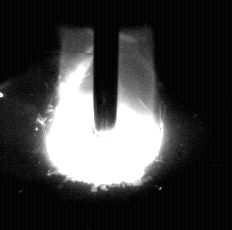arame: (95, 0, 119, 132)
poca: (44, 0, 165, 230)
